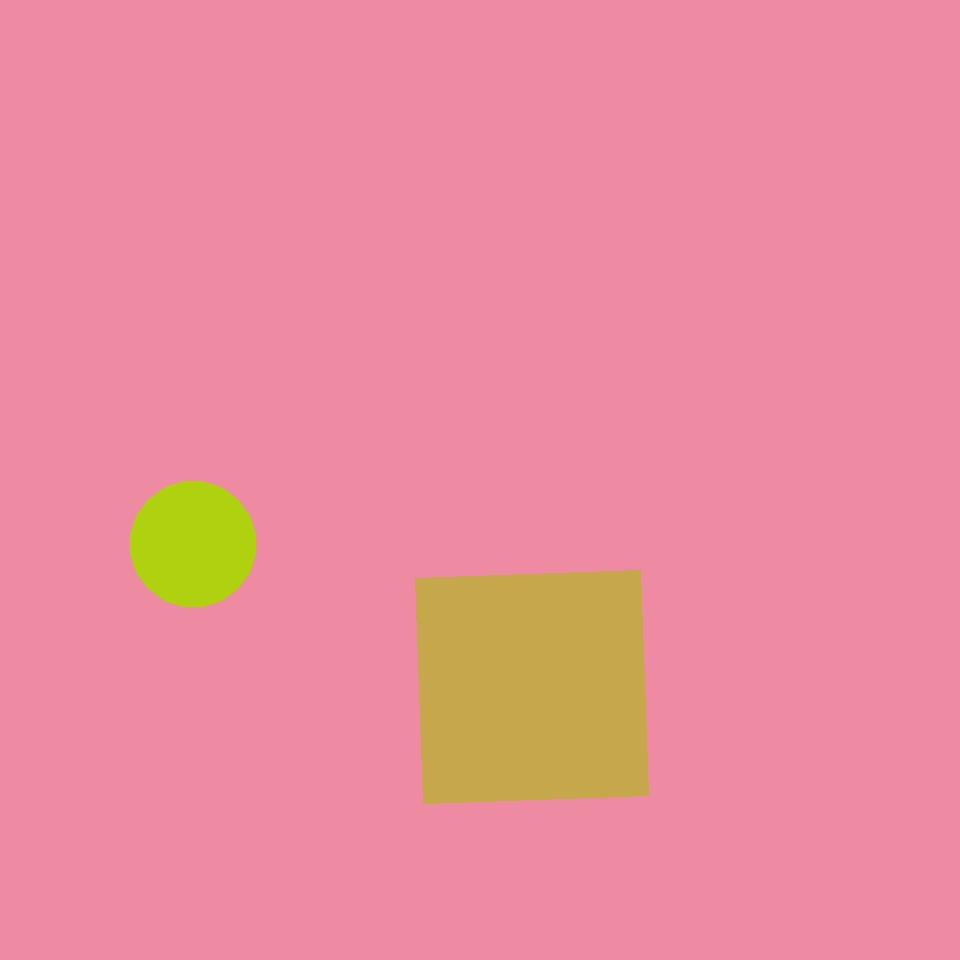circle: (350, 193, 583, 441)
square: (416, 570, 648, 804), (82, 335, 218, 471)
triangle: (266, 281, 510, 525), (130, 482, 256, 606)
